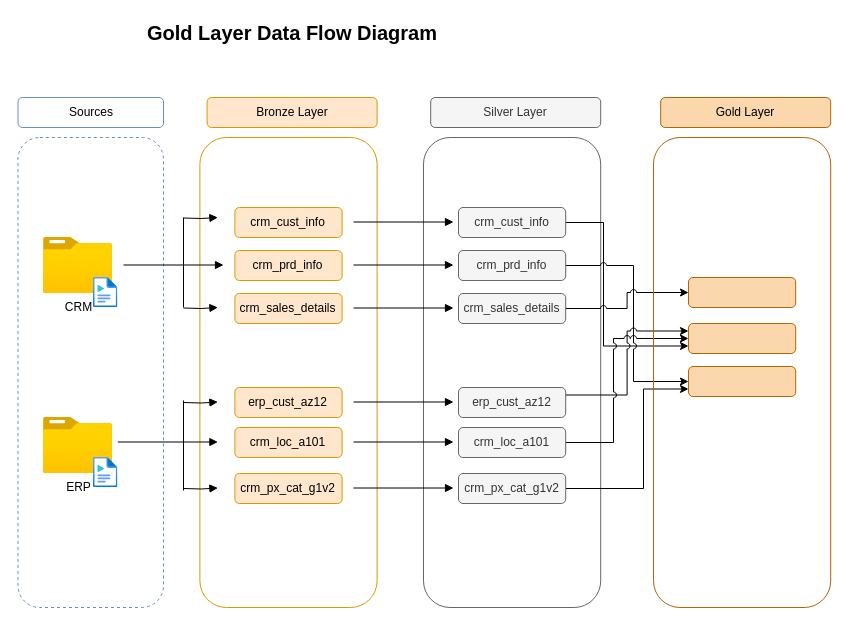
The diagram is 848 pixels wide and 625 high, and some of its shapes have lost their labels. Here are the shapes that lost their labels. From the top down, the centre of each, then its label:
At (x=742, y=292): "fact_sales".
At (x=742, y=338): "dim_customer".
At (x=742, y=381): "dim_product".
